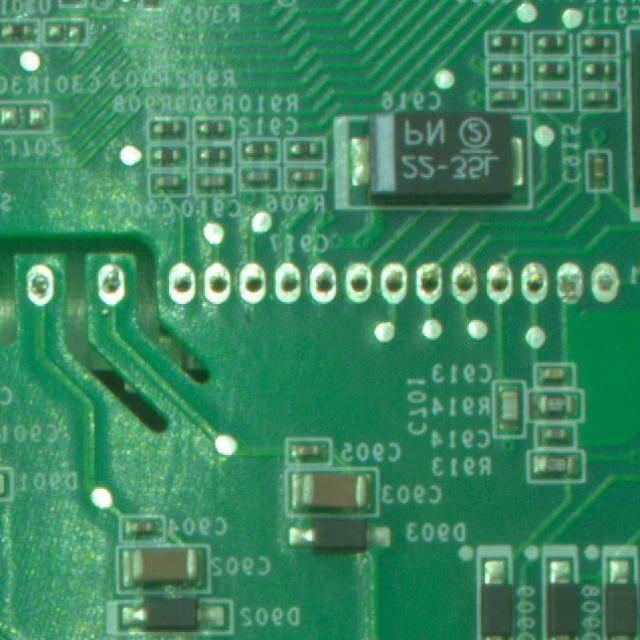Insufficient solder: (18, 256, 67, 314), (156, 260, 200, 322), (372, 254, 413, 316), (198, 260, 235, 324), (306, 258, 342, 320), (232, 260, 268, 320), (92, 266, 133, 316), (409, 264, 448, 316), (447, 260, 483, 312), (482, 260, 519, 310), (518, 258, 552, 312), (272, 260, 301, 318), (344, 258, 371, 320), (590, 257, 627, 301), (554, 254, 582, 312)
